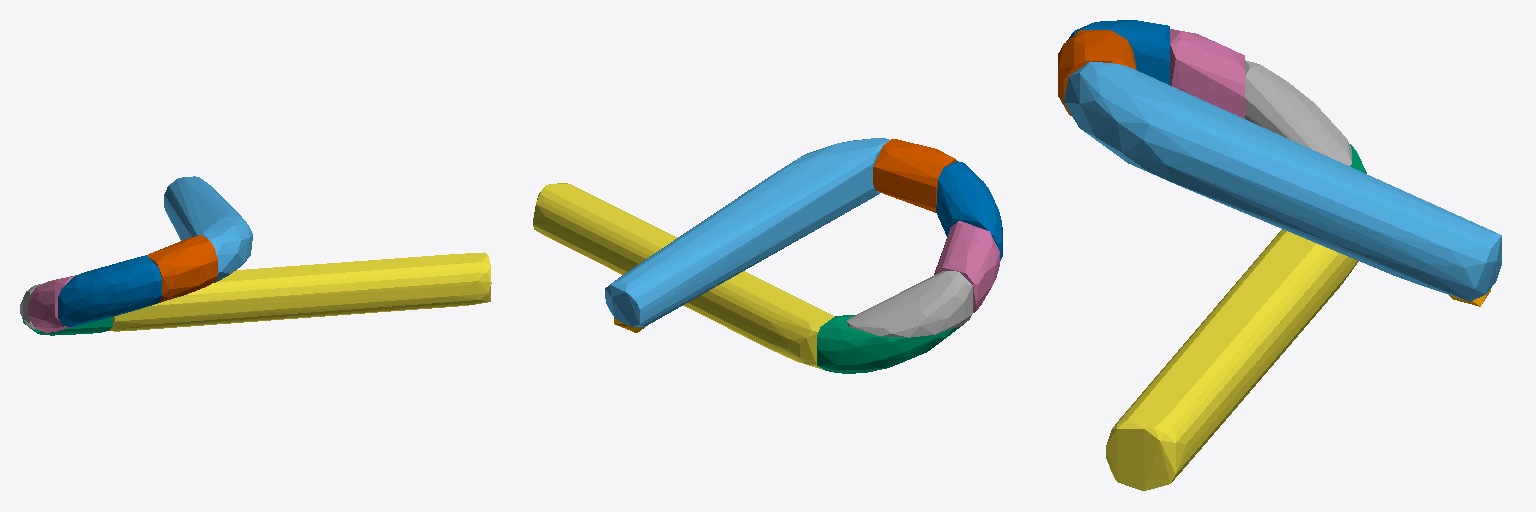
The robot description file, URDF, robot "alpha-1.0.obj":
<?xml version="1.0"?>
<robot name="alpha-1.0.obj">
 <link name="alpha-1.0-1.obj">
  <inertial>
    <mass value="1"/>
    <inertia ixx="1" ixy="0" ixz="0" iyy="1" iyz="0" izz="1"/>
  </inertial>
  <visual>
    <origin rpy="0 0 0" xyz="0 0 0"/>
    <geometry>
      <mesh filename="meshes/alpha-1.0-1.obj"/>
    </geometry>
  </visual>
  <collision>
    <origin rpy="0 0 0" xyz="0 0 0"/>
    <geometry>
      <mesh filename="meshes/alpha-1.0-1.obj"/>
    </geometry>
  </collision>
 </link>

 <link name="alpha-1.0-2.obj">
  <inertial>
    <mass value="1"/>
    <inertia ixx="1" ixy="0" ixz="0" iyy="1" iyz="0" izz="1"/>
  </inertial>
  <visual>
    <origin rpy="0 0 0" xyz="0 0 0"/>
    <geometry>
      <mesh filename="meshes/alpha-1.0-2.obj"/>
    </geometry>
  </visual>
  <collision>
    <origin rpy="0 0 0" xyz="0 0 0"/>
    <geometry>
      <mesh filename="meshes/alpha-1.0-2.obj"/>
    </geometry>
  </collision>
 </link>

<joint name="joint_fixed_alpha-1.0-2.obj_alpha-1.0-1.obj" type="fixed">
  <origin rpy="0 0 0" xyz="0 0 0"/>
  <parent link="alpha-1.0-2.obj"/>
  <child link="alpha-1.0-1.obj"/>
</joint>

 <link name="alpha-1.0-3.obj">
  <inertial>
    <mass value="1"/>
    <inertia ixx="1" ixy="0" ixz="0" iyy="1" iyz="0" izz="1"/>
  </inertial>
  <visual>
    <origin rpy="0 0 0" xyz="0 0 0"/>
    <geometry>
      <mesh filename="meshes/alpha-1.0-3.obj"/>
    </geometry>
  </visual>
  <collision>
    <origin rpy="0 0 0" xyz="0 0 0"/>
    <geometry>
      <mesh filename="meshes/alpha-1.0-3.obj"/>
    </geometry>
  </collision>
 </link>

<joint name="joint_fixed_alpha-1.0-3.obj_alpha-1.0-2.obj" type="fixed">
  <origin rpy="0 0 0" xyz="0 0 0"/>
  <parent link="alpha-1.0-3.obj"/>
  <child link="alpha-1.0-2.obj"/>
</joint>

 <link name="alpha-1.0-4.obj">
  <inertial>
    <mass value="1"/>
    <inertia ixx="1" ixy="0" ixz="0" iyy="1" iyz="0" izz="1"/>
  </inertial>
  <visual>
    <origin rpy="0 0 0" xyz="0 0 0"/>
    <geometry>
      <mesh filename="meshes/alpha-1.0-4.obj"/>
    </geometry>
  </visual>
  <collision>
    <origin rpy="0 0 0" xyz="0 0 0"/>
    <geometry>
      <mesh filename="meshes/alpha-1.0-4.obj"/>
    </geometry>
  </collision>
 </link>

<joint name="joint_fixed_alpha-1.0-4.obj_alpha-1.0-3.obj" type="fixed">
  <origin rpy="0 0 0" xyz="0 0 0"/>
  <parent link="alpha-1.0-4.obj"/>
  <child link="alpha-1.0-3.obj"/>
</joint>

 <link name="alpha-1.0-5.obj">
  <inertial>
    <mass value="1"/>
    <inertia ixx="1" ixy="0" ixz="0" iyy="1" iyz="0" izz="1"/>
  </inertial>
  <visual>
    <origin rpy="0 0 0" xyz="0 0 0"/>
    <geometry>
      <mesh filename="meshes/alpha-1.0-5.obj"/>
    </geometry>
  </visual>
  <collision>
    <origin rpy="0 0 0" xyz="0 0 0"/>
    <geometry>
      <mesh filename="meshes/alpha-1.0-5.obj"/>
    </geometry>
  </collision>
 </link>

<joint name="joint_fixed_alpha-1.0-5.obj_alpha-1.0-4.obj" type="fixed">
  <origin rpy="0 0 0" xyz="0 0 0"/>
  <parent link="alpha-1.0-5.obj"/>
  <child link="alpha-1.0-4.obj"/>
</joint>

 <link name="alpha-1.0-6.obj">
  <inertial>
    <mass value="1"/>
    <inertia ixx="1" ixy="0" ixz="0" iyy="1" iyz="0" izz="1"/>
  </inertial>
  <visual>
    <origin rpy="0 0 0" xyz="0 0 0"/>
    <geometry>
      <mesh filename="meshes/alpha-1.0-6.obj"/>
    </geometry>
  </visual>
  <collision>
    <origin rpy="0 0 0" xyz="0 0 0"/>
    <geometry>
      <mesh filename="meshes/alpha-1.0-6.obj"/>
    </geometry>
  </collision>
 </link>

<joint name="joint_fixed_alpha-1.0-6.obj_alpha-1.0-5.obj" type="fixed">
  <origin rpy="0 0 0" xyz="0 0 0"/>
  <parent link="alpha-1.0-6.obj"/>
  <child link="alpha-1.0-5.obj"/>
</joint>

 <link name="alpha-1.0-7.obj">
  <inertial>
    <mass value="1"/>
    <inertia ixx="1" ixy="0" ixz="0" iyy="1" iyz="0" izz="1"/>
  </inertial>
  <visual>
    <origin rpy="0 0 0" xyz="0 0 0"/>
    <geometry>
      <mesh filename="meshes/alpha-1.0-7.obj"/>
    </geometry>
  </visual>
  <collision>
    <origin rpy="0 0 0" xyz="0 0 0"/>
    <geometry>
      <mesh filename="meshes/alpha-1.0-7.obj"/>
    </geometry>
  </collision>
 </link>

<joint name="joint_fixed_alpha-1.0-7.obj_alpha-1.0-6.obj" type="fixed">
  <origin rpy="0 0 0" xyz="0 0 0"/>
  <parent link="alpha-1.0-7.obj"/>
  <child link="alpha-1.0-6.obj"/>
</joint>

 <link name="alpha-1.0-8.obj">
  <inertial>
    <mass value="1"/>
    <inertia ixx="1" ixy="0" ixz="0" iyy="1" iyz="0" izz="1"/>
  </inertial>
  <visual>
    <origin rpy="0 0 0" xyz="0 0 0"/>
    <geometry>
      <mesh filename="meshes/alpha-1.0-8.obj"/>
    </geometry>
  </visual>
  <collision>
    <origin rpy="0 0 0" xyz="0 0 0"/>
    <geometry>
      <mesh filename="meshes/alpha-1.0-8.obj"/>
    </geometry>
  </collision>
 </link>

<joint name="joint_fixed_alpha-1.0-8.obj_alpha-1.0-7.obj" type="fixed">
  <origin rpy="0 0 0" xyz="0 0 0"/>
  <parent link="alpha-1.0-8.obj"/>
  <child link="alpha-1.0-7.obj"/>
</joint>

<klampt package_root="../../.." default_acc_max="4" >
<noselfcollision pairs="alpha-1.0-1.obj alpha-1.0-2.obj" />
<noselfcollision pairs="alpha-1.0-1.obj alpha-1.0-3.obj" />
<noselfcollision pairs="alpha-1.0-1.obj alpha-1.0-4.obj" />
<noselfcollision pairs="alpha-1.0-1.obj alpha-1.0-5.obj" />
<noselfcollision pairs="alpha-1.0-1.obj alpha-1.0-6.obj" />
<noselfcollision pairs="alpha-1.0-1.obj alpha-1.0-7.obj" />
<noselfcollision pairs="alpha-1.0-1.obj alpha-1.0-8.obj" />
<noselfcollision pairs="alpha-1.0-2.obj alpha-1.0-3.obj" />
<noselfcollision pairs="alpha-1.0-2.obj alpha-1.0-4.obj" />
<noselfcollision pairs="alpha-1.0-2.obj alpha-1.0-5.obj" />
<noselfcollision pairs="alpha-1.0-2.obj alpha-1.0-6.obj" />
<noselfcollision pairs="alpha-1.0-2.obj alpha-1.0-7.obj" />
<noselfcollision pairs="alpha-1.0-2.obj alpha-1.0-8.obj" />
<noselfcollision pairs="alpha-1.0-3.obj alpha-1.0-4.obj" />
<noselfcollision pairs="alpha-1.0-3.obj alpha-1.0-5.obj" />
<noselfcollision pairs="alpha-1.0-3.obj alpha-1.0-6.obj" />
<noselfcollision pairs="alpha-1.0-3.obj alpha-1.0-7.obj" />
<noselfcollision pairs="alpha-1.0-3.obj alpha-1.0-8.obj" />
<noselfcollision pairs="alpha-1.0-4.obj alpha-1.0-5.obj" />
<noselfcollision pairs="alpha-1.0-4.obj alpha-1.0-6.obj" />
<noselfcollision pairs="alpha-1.0-4.obj alpha-1.0-7.obj" />
<noselfcollision pairs="alpha-1.0-4.obj alpha-1.0-8.obj" />
<noselfcollision pairs="alpha-1.0-5.obj alpha-1.0-6.obj" />
<noselfcollision pairs="alpha-1.0-5.obj alpha-1.0-7.obj" />
<noselfcollision pairs="alpha-1.0-5.obj alpha-1.0-8.obj" />
<noselfcollision pairs="alpha-1.0-6.obj alpha-1.0-7.obj" />
<noselfcollision pairs="alpha-1.0-6.obj alpha-1.0-8.obj" />
<noselfcollision pairs="alpha-1.0-7.obj alpha-1.0-8.obj" />
</klampt>
</robot>

--- Render facts (derived) ---
Views: 3 orthographic renders of the robot side by side, from view 1: azimuth 30°, elevation 25°; view 2: azimuth 150°, elevation 25°; view 3: azimuth 270°, elevation 25°.
Robot: alpha-1.0.obj — 8 links, 7 joints (7 fixed); root link alpha-1.0-8.obj; default pose: all joints at 0.
Links seen in each view (by area): view 1: alpha-1.0-4.obj, alpha-1.0-5.obj, alpha-1.0-2.obj, alpha-1.0-6.obj, alpha-1.0-7.obj, alpha-1.0-3.obj; view 2: alpha-1.0-2.obj, alpha-1.0-4.obj, alpha-1.0-8.obj, alpha-1.0-3.obj, alpha-1.0-6.obj, alpha-1.0-5.obj, alpha-1.0-7.obj; view 3: alpha-1.0-2.obj, alpha-1.0-4.obj, alpha-1.0-8.obj, alpha-1.0-7.obj, alpha-1.0-6.obj, alpha-1.0-5.obj.
Boxes of the visible links, x1,y1,x2,y2 form: alpha-1.0-4.obj: (109,252,491,331); alpha-1.0-5.obj: (58,255,161,327); alpha-1.0-2.obj: (164,176,252,282); alpha-1.0-6.obj: (147,235,217,302); alpha-1.0-7.obj: (27,275,75,332); alpha-1.0-3.obj: (22,317,112,335); alpha-1.0-2.obj: (605,138,889,326); alpha-1.0-4.obj: (533,183,834,369); alpha-1.0-8.obj: (847,271,972,337); alpha-1.0-3.obj: (817,315,963,373); alpha-1.0-6.obj: (873,139,956,212); alpha-1.0-5.obj: (936,161,1002,260); alpha-1.0-7.obj: (934,221,999,312); alpha-1.0-2.obj: (1064,61,1501,301); alpha-1.0-4.obj: (1106,229,1358,490); alpha-1.0-8.obj: (1245,60,1351,165); alpha-1.0-7.obj: (1170,29,1244,118); alpha-1.0-6.obj: (1058,30,1136,115); alpha-1.0-5.obj: (1066,20,1169,84).
Size in the robot's own frame: 62.67 by 37.42 by 19.84 metres.
8 mesh visuals loaded from 8 distinct referenced files (8 OBJ).